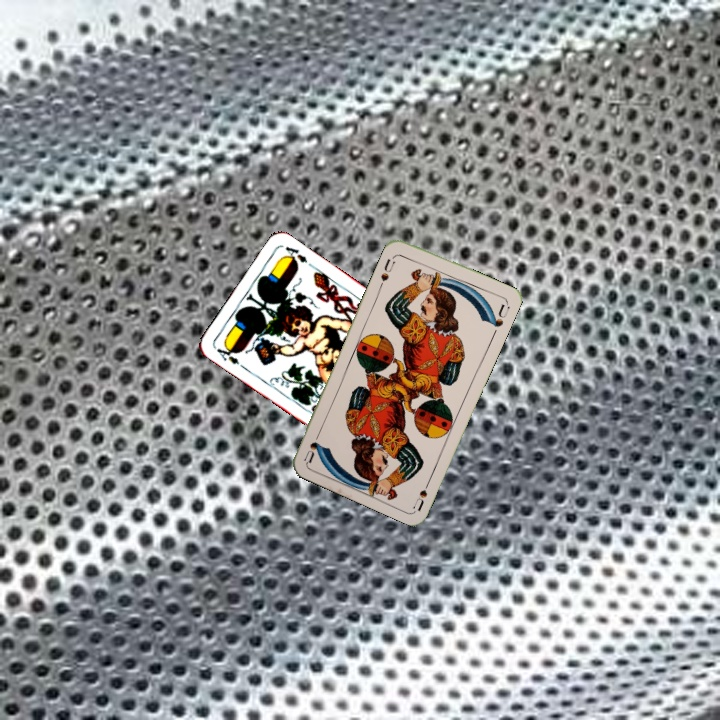EA: (212, 340, 242, 367)
SU: (410, 473, 434, 512), (376, 254, 398, 289)
